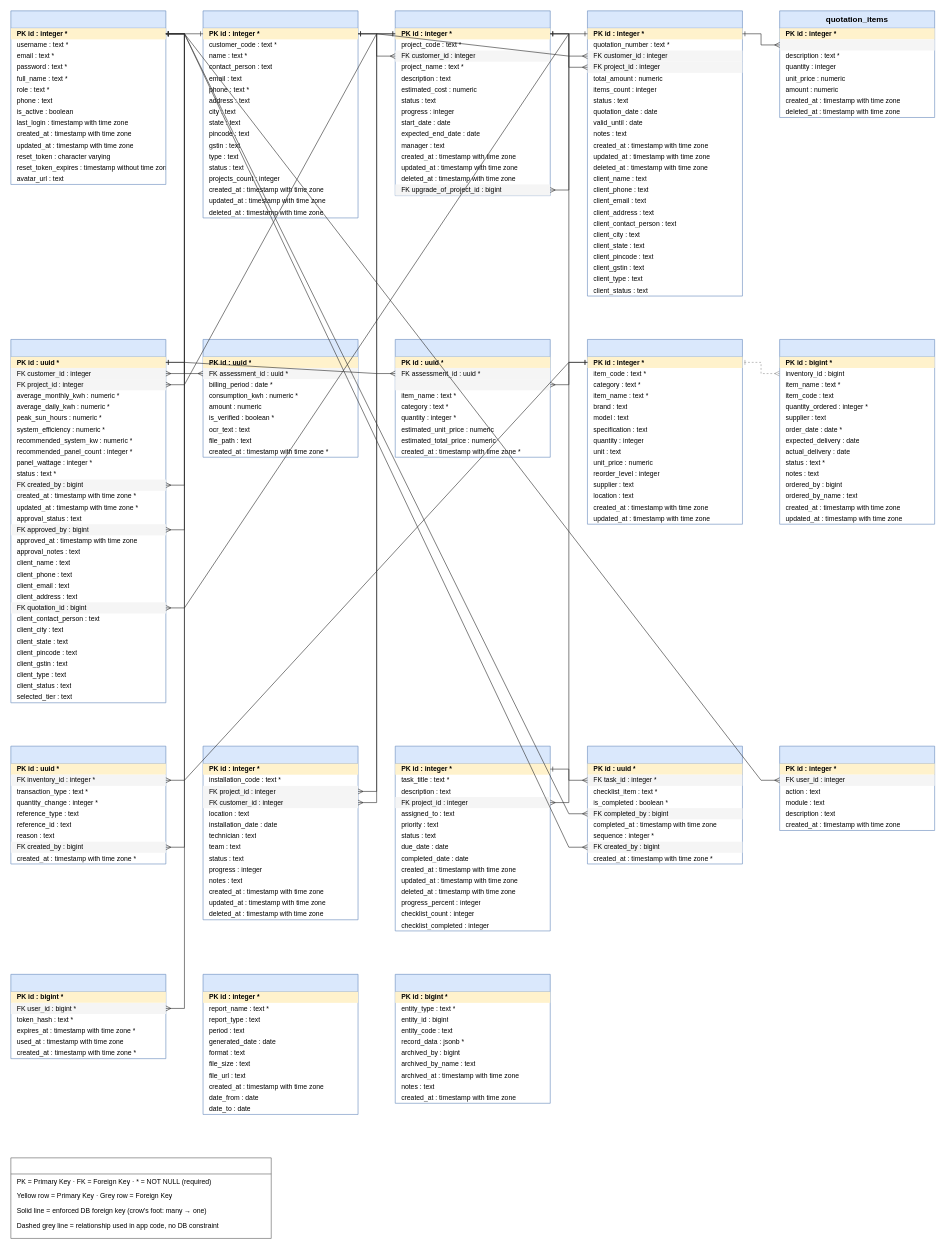
Some shapes in this 946 by 1249 pixel diagram are drawn without their labels. Each missing label, with the box of its shape:
activity_logs: (779, 746, 935, 830)
archives: (395, 974, 550, 1103)
customers: (202, 10, 358, 218)
energy_assessments: (10, 339, 166, 703)
energy_bill_readings: (202, 339, 358, 457)
FK inventory_id : integer: (395, 379, 550, 390)
FK quotation_id : integer: (779, 39, 934, 50)
installations: (202, 746, 358, 920)
inventory: (587, 339, 742, 524)
inventory_orders: (779, 339, 935, 524)
inventory_transactions: (10, 746, 166, 864)
Legend: (10, 1157, 271, 1238)
password_reset_tokens: (10, 974, 166, 1059)
projects: (395, 10, 550, 196)
quotations: (587, 10, 742, 296)
recommendation_items: (395, 339, 550, 457)
reports: (202, 974, 358, 1114)
task_checklists: (587, 746, 742, 864)
tasks: (395, 746, 550, 931)
users: (10, 10, 166, 184)
